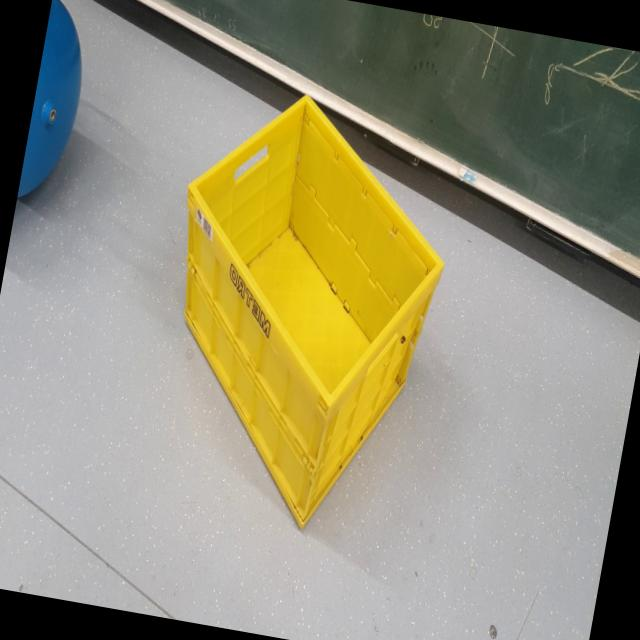box: (116, 53, 482, 556)
